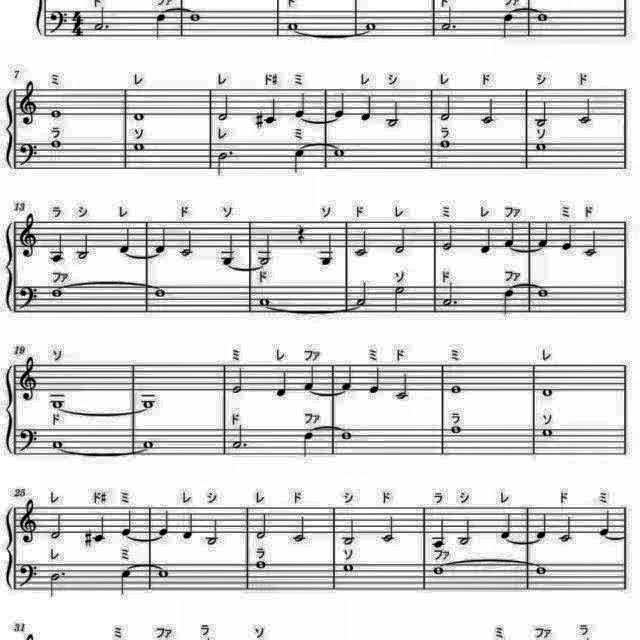Bass-clef: (15, 424, 40, 456), (16, 559, 40, 589), (16, 139, 40, 169), (16, 282, 40, 312), (47, 7, 69, 37)
Diez: (252, 108, 264, 130), (84, 528, 95, 548)
Full-note: (152, 284, 170, 300), (48, 286, 68, 300), (48, 436, 68, 449), (534, 8, 550, 24), (156, 566, 174, 580), (48, 106, 66, 120), (47, 396, 65, 410), (138, 396, 158, 408), (186, 9, 202, 23), (132, 109, 148, 123), (534, 285, 550, 299), (448, 382, 464, 396), (332, 145, 348, 159), (449, 423, 465, 437), (256, 294, 272, 308), (532, 563, 548, 577), (132, 140, 148, 154), (342, 560, 358, 574), (140, 438, 156, 452), (362, 21, 378, 34), (284, 21, 300, 34), (340, 428, 356, 440), (252, 559, 268, 571), (538, 386, 554, 398), (532, 140, 548, 152), (539, 426, 555, 438), (430, 564, 446, 576), (438, 138, 454, 150), (49, 138, 65, 150)
Half-dot: (46, 568, 70, 600), (439, 280, 461, 312), (214, 149, 234, 179), (92, 4, 112, 34), (440, 5, 460, 35), (230, 423, 250, 452)
Half-note: (256, 230, 276, 266), (229, 363, 247, 397), (576, 95, 596, 125), (289, 514, 307, 546), (480, 96, 498, 128), (379, 514, 397, 546), (382, 101, 401, 131), (215, 92, 232, 124), (393, 372, 411, 402), (74, 233, 92, 263), (557, 515, 575, 545), (583, 229, 601, 259), (352, 229, 370, 259), (50, 513, 66, 545), (354, 278, 370, 310), (440, 92, 456, 124), (205, 518, 221, 550), (389, 285, 406, 315), (178, 229, 195, 259), (392, 225, 408, 255), (456, 517, 472, 547), (342, 517, 358, 547), (442, 224, 458, 252), (536, 102, 552, 130), (254, 511, 268, 541)
Quarter-note: (316, 232, 336, 268), (48, 231, 68, 265), (218, 232, 236, 264), (431, 516, 449, 548), (116, 565, 134, 597), (498, 9, 516, 39), (358, 92, 374, 124), (180, 511, 196, 542), (302, 428, 318, 459), (596, 509, 612, 539), (292, 89, 308, 119), (274, 368, 290, 398), (366, 365, 382, 395), (120, 508, 136, 538), (120, 225, 136, 255), (502, 221, 518, 251), (534, 512, 550, 542), (154, 507, 170, 537), (264, 95, 280, 125), (500, 285, 516, 315), (152, 10, 168, 40), (292, 145, 308, 175), (154, 227, 170, 256), (340, 363, 356, 392), (302, 364, 318, 392), (498, 512, 514, 540), (333, 90, 349, 118), (561, 221, 575, 251), (536, 221, 550, 251), (480, 225, 494, 255), (94, 513, 108, 543)
Quarter-rest: (292, 222, 308, 246)
Treble-clef: (16, 210, 40, 260), (17, 81, 41, 131), (16, 353, 40, 402), (16, 496, 40, 544)
